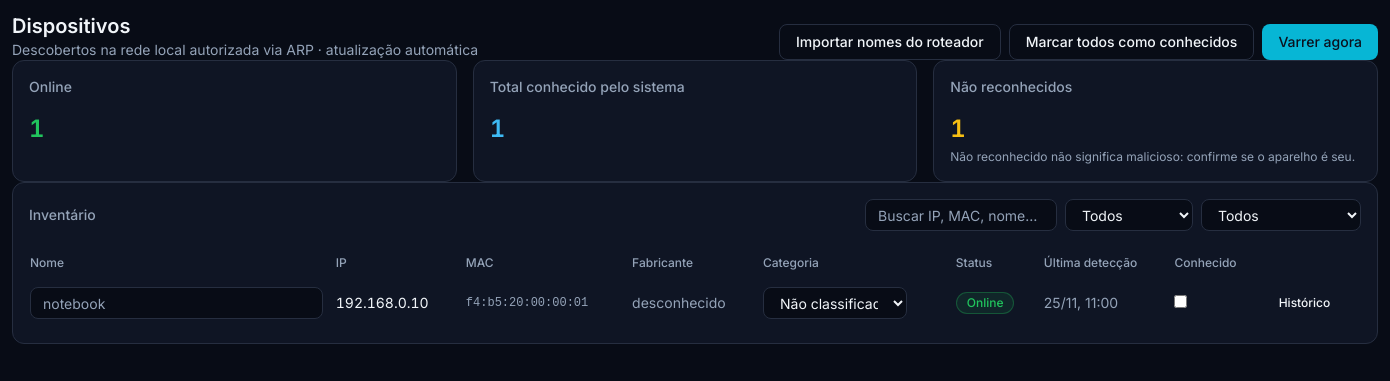
Test: Devices › admin varre e vê o resultado
Click the button "Varrer agora" at coordinates (1320, 42), box [1262,24,1378,60]
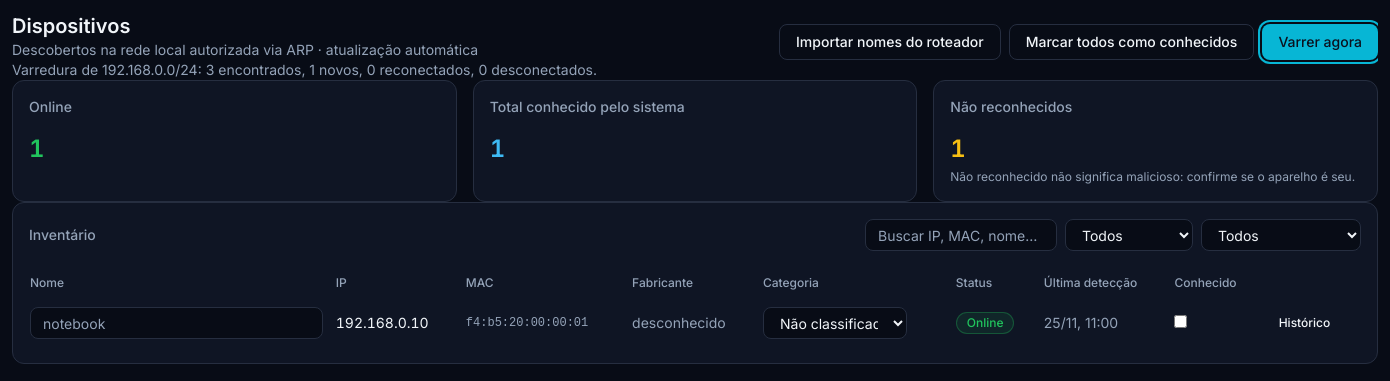
Now the message shows "192.168.0.0/24: 3 encontrados", box [12,61,597,78]
